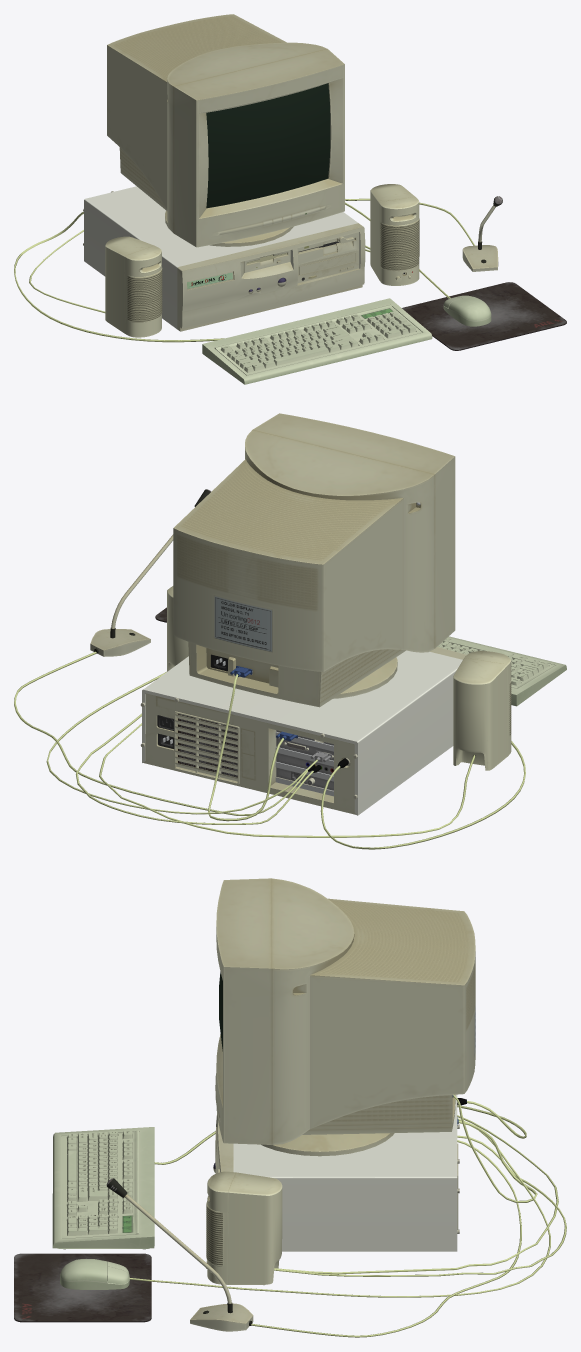
Rendered from ST_Old_PC_04_all.FBX.
3 renders of one model, top to bottom at view 1: azimuth 30°, elevation 25°; view 2: azimuth 150°, elevation 25°; view 3: azimuth 270°, elevation 25°, orthographic. The views are drawn at different scales.
Parts seen in each view (by area): view 1: Old_PC_04; view 2: Old_PC_04; view 3: Old_PC_04.
Part boxes in pixels (left/top/right/bottom): Old_PC_04: left=14, top=14, right=566, bottom=384; Old_PC_04: left=14, top=413, right=566, bottom=849; Old_PC_04: left=14, top=878, right=566, bottom=1337.
Bounding box in the file's own units: 93.26 × 50.23 × 90.88.
